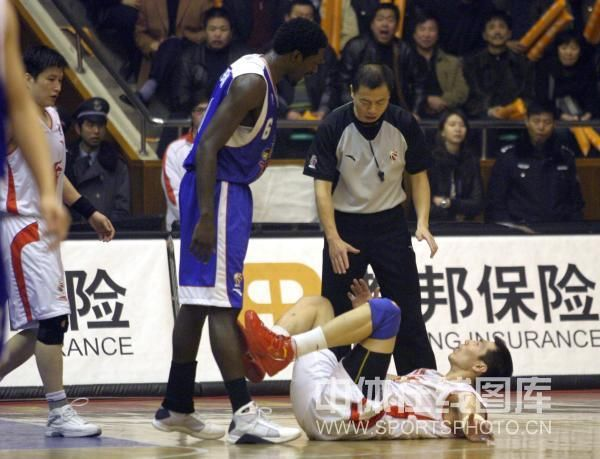10+: (1, 1, 590, 451)
down: (231, 276, 527, 443)
